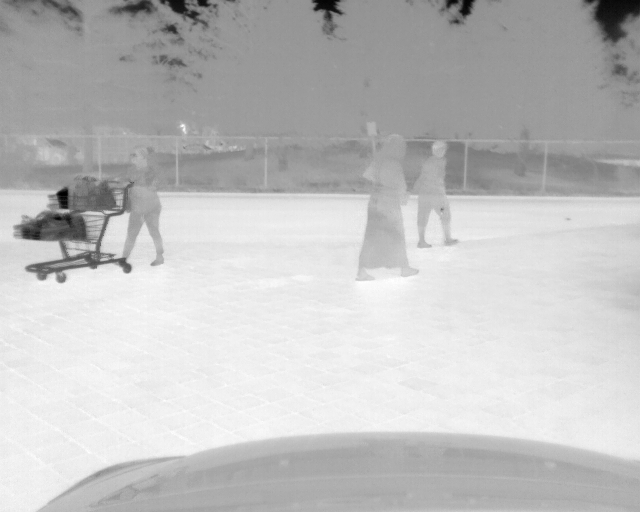people: (352, 134, 420, 280), (116, 144, 166, 267), (413, 141, 460, 248)
